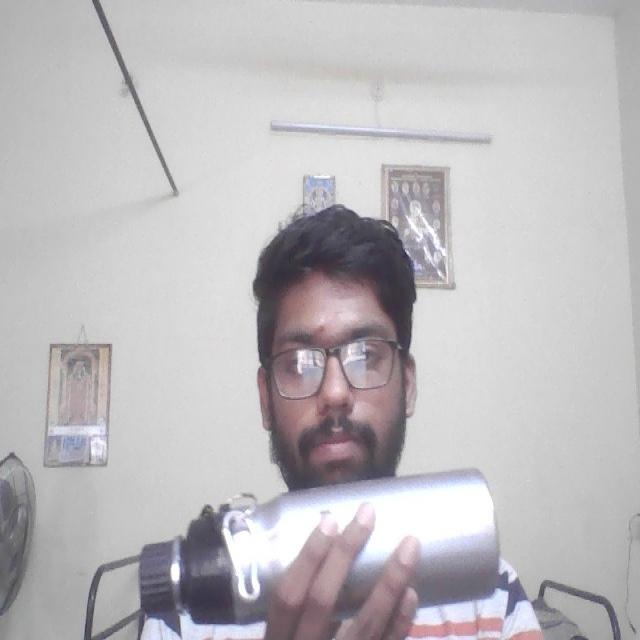Drinking: (129, 462, 513, 640)
